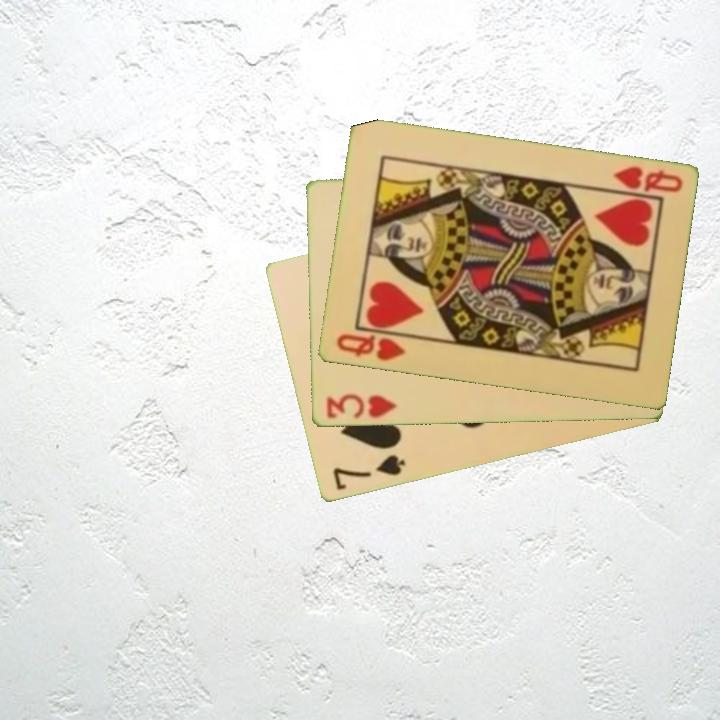3h: (323, 391, 400, 422)
7s: (329, 452, 408, 494)
Qh: (332, 330, 408, 364), (609, 163, 685, 196)
